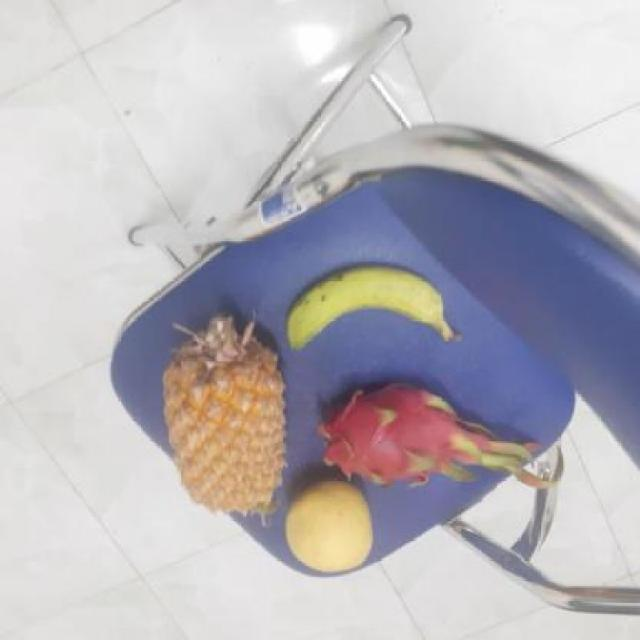banana: (292, 268, 454, 360)
dragon fruit: (324, 382, 491, 488)
pear: (282, 479, 378, 573)
sugar apple: (165, 315, 290, 516)
